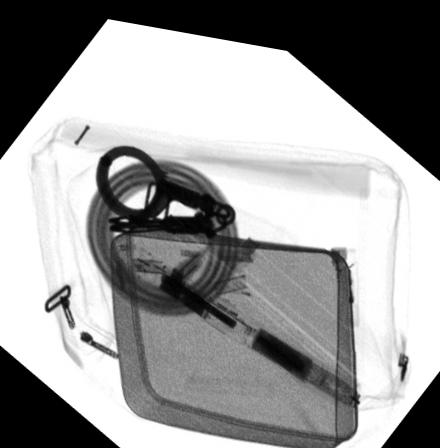Baton: (157, 257, 360, 400)
HandCuffs: (93, 137, 238, 232)
Lighter: (328, 232, 360, 310)
